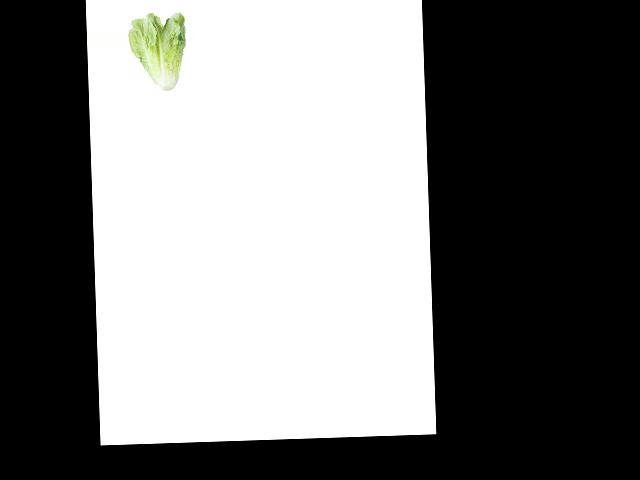lettuce: (128, 11, 189, 94)
